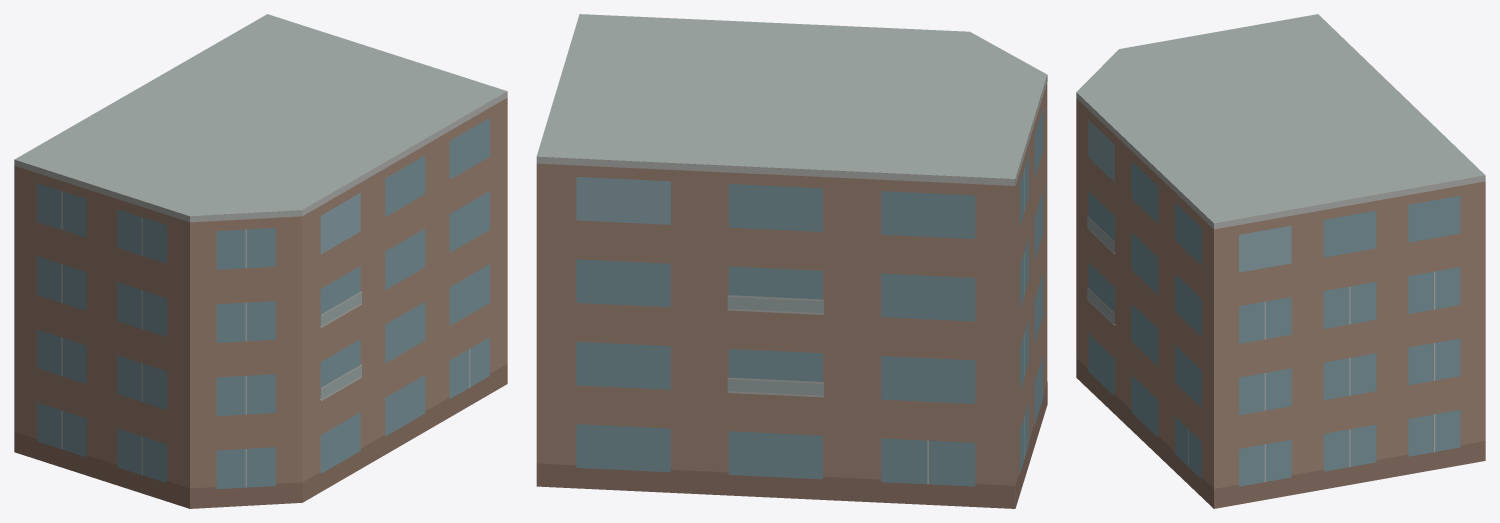
File: survey-upis-32842203.glb
The picture shows the model from 3 angles, left to right: view 1: azimuth 30°, elevation 25°; view 2: azimuth 150°, elevation 25°; view 3: azimuth 270°, elevation 25°; orthographic projection. The views are drawn at different scales.
Parts seen in each view (by area): view 1: survey-upis-32842203.tmp; view 2: survey-upis-32842203.tmp; view 3: survey-upis-32842203.tmp.
Boxes of the visible parts, bbox=[...] form: survey-upis-32842203.tmp: bbox=[14, 14, 507, 508]; survey-upis-32842203.tmp: bbox=[536, 14, 1047, 508]; survey-upis-32842203.tmp: bbox=[1076, 14, 1485, 508].
Bounding box in the file's own units: 18.27 × 11.6 × 15.08.
